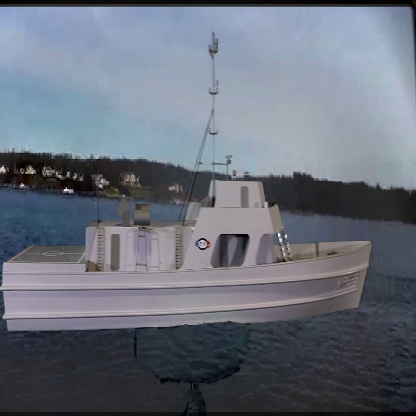YP689: (0, 31, 373, 335)
